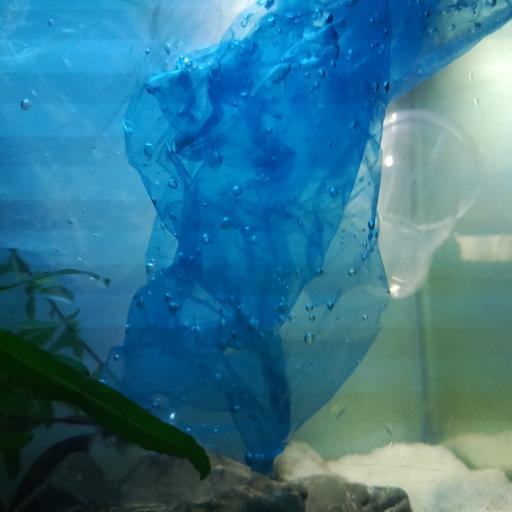plastic_bag: (0, 0, 512, 466)
plastic_cup: (358, 105, 482, 302)
